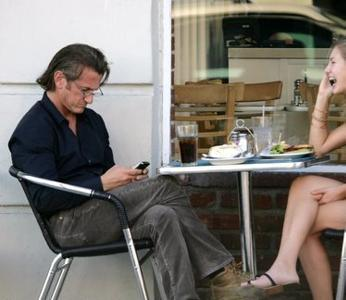person: (8, 44, 283, 300)
